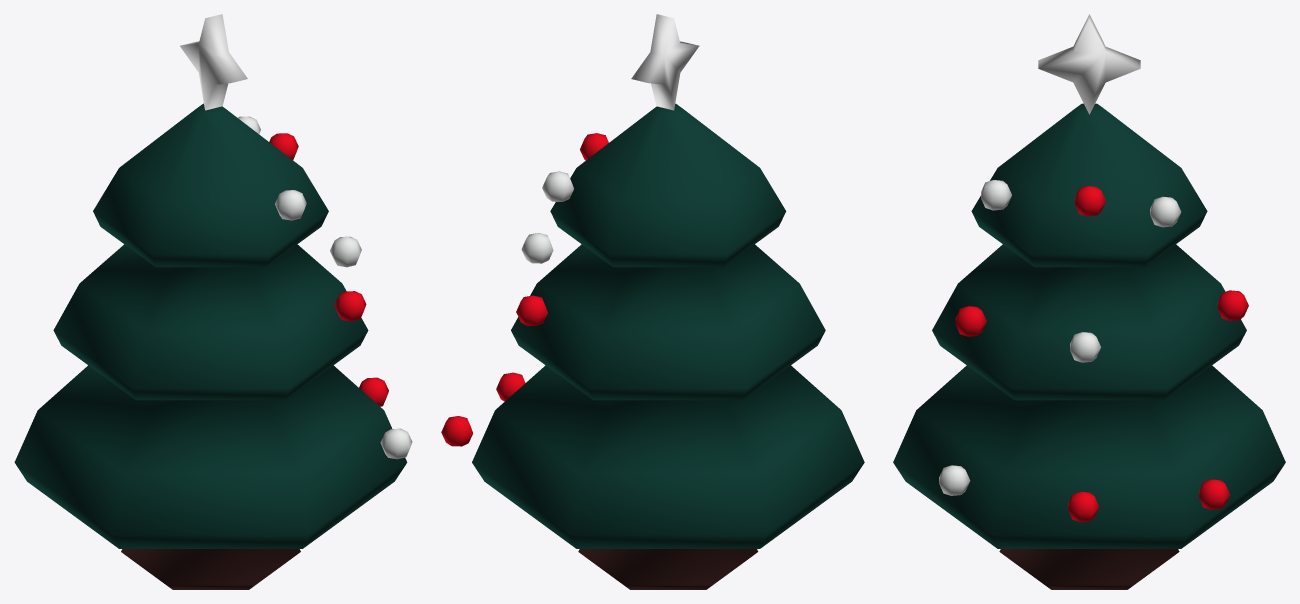
The model's file is treeLow.fbx.
The picture shows the model from 3 angles, left to right: view 1: azimuth 30°, elevation 25°; view 2: azimuth 150°, elevation 25°; view 3: azimuth 270°, elevation 25°; orthographic projection.
Parts seen in each view (by area): view 1: treeLow; view 2: treeLow; view 3: treeLow.
Part boxes in pixels (x1,y1,x2,y2): treeLow: (14, 14, 412, 589); treeLow: (441, 14, 864, 589); treeLow: (893, 14, 1285, 589).
Size of the model in its own units: 1.57 by 2.55 by 1.67.
